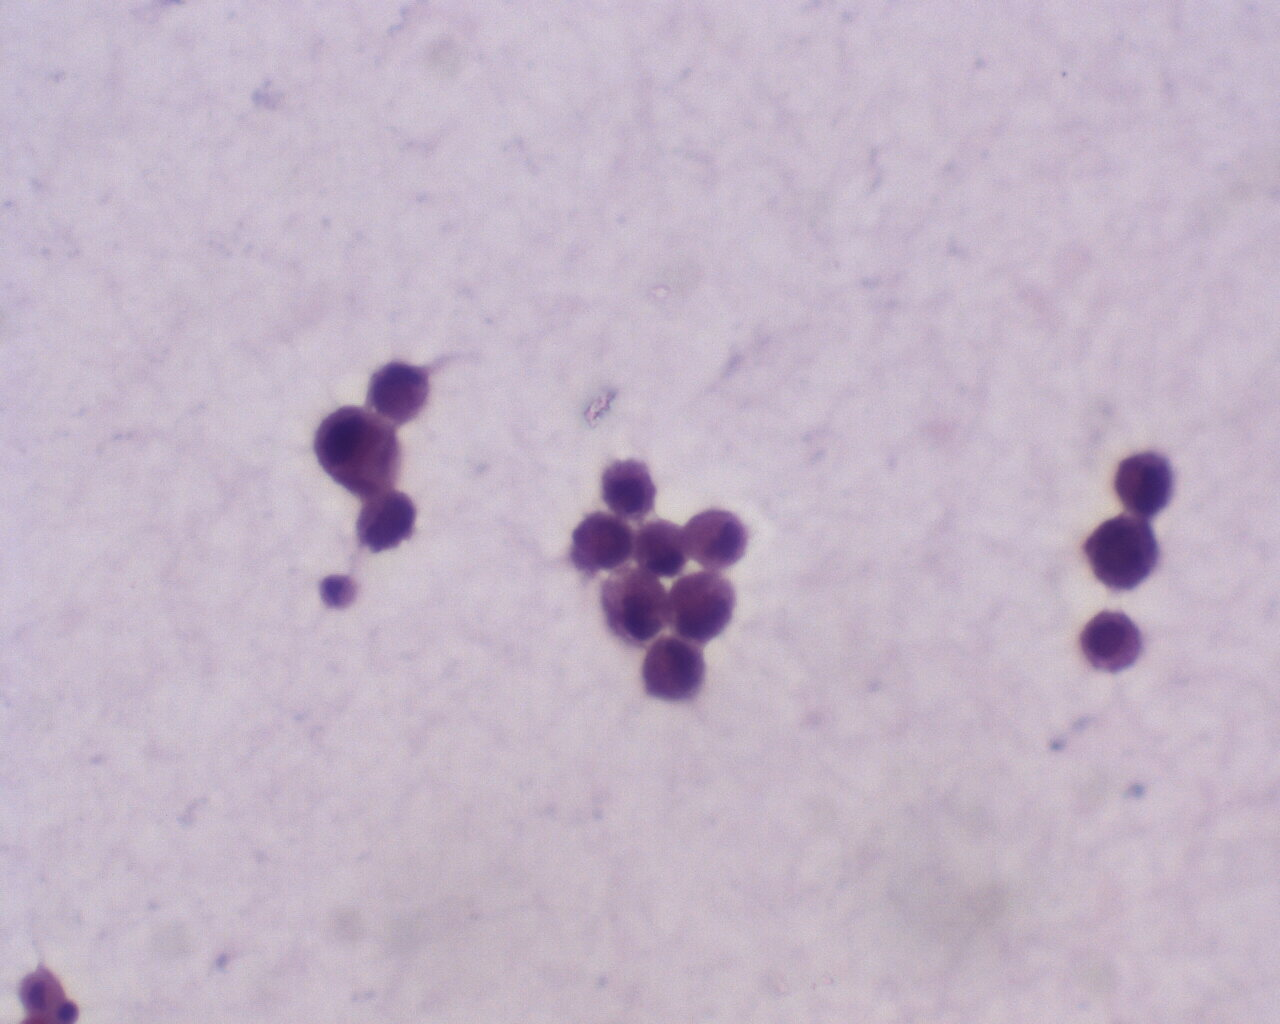ab: (1085, 513, 1164, 598), (1104, 443, 1185, 518), (670, 568, 743, 644), (639, 634, 705, 704), (351, 486, 416, 557), (368, 360, 432, 423), (567, 514, 635, 573), (596, 455, 658, 515)
meso: (1077, 604, 1145, 676)
